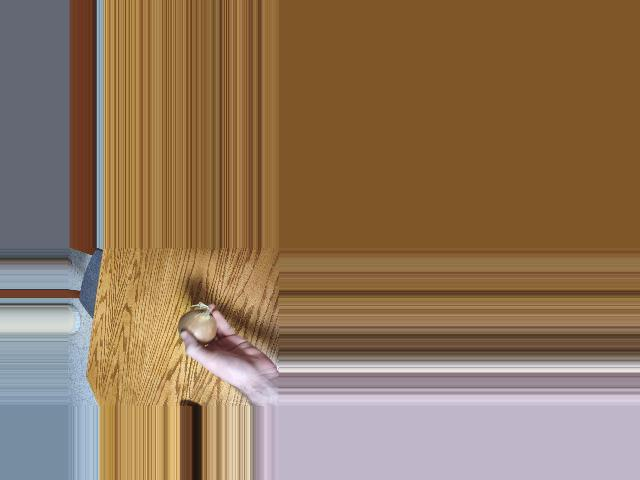onion: (177, 309, 215, 346)
